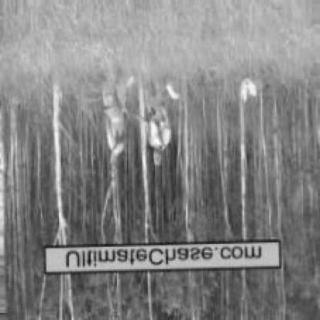Fire: (234, 76, 263, 106), (165, 74, 182, 108)
